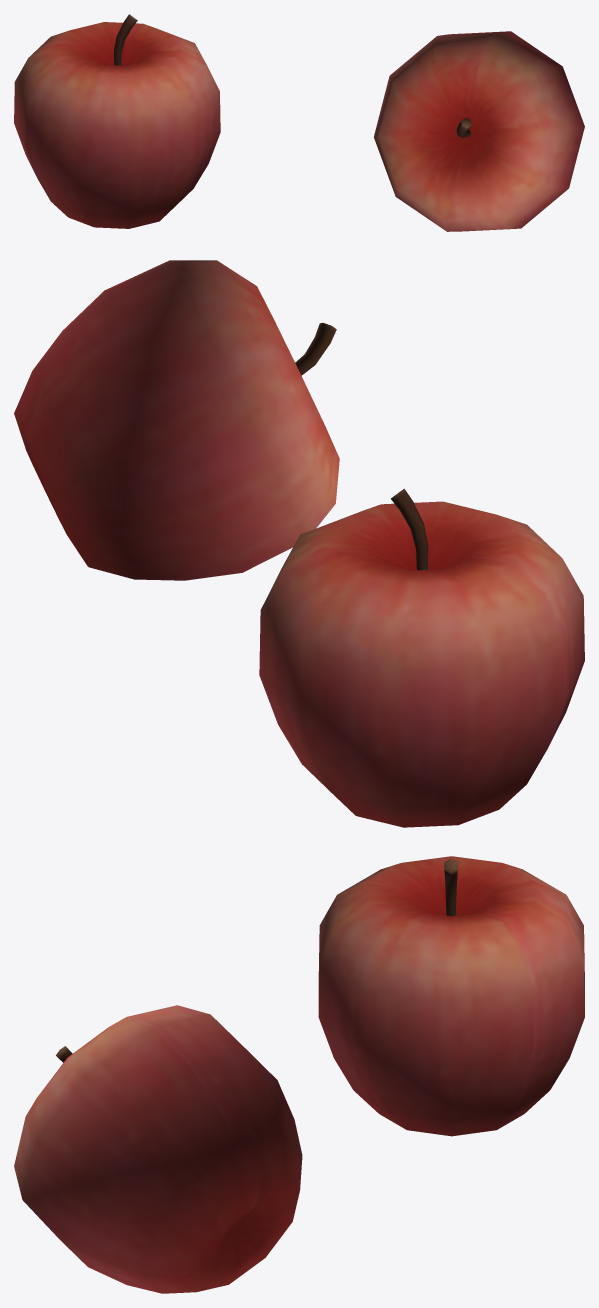
The model's file is HuBian_01_pingguo_01.FBX.
3 views of the same model, one above another, from view 1: azimuth 30°, elevation 25°; view 2: azimuth 150°, elevation 25°; view 3: azimuth 270°, elevation 25° (orthographic). The views are drawn at different scales.
Visible parts, largest first — view 1: TianZhuJiaoTang_01_pingguo_01; view 2: TianZhuJiaoTang_01_pingguo_01; view 3: TianZhuJiaoTang_01_pingguo_01.
Part boxes in pixels (x1=…): TianZhuJiaoTang_01_pingguo_01: x1=14, y1=14, x2=584, y2=231; TianZhuJiaoTang_01_pingguo_01: x1=14, y1=260, x2=584, y2=827; TianZhuJiaoTang_01_pingguo_01: x1=14, y1=856, x2=584, y2=1293.
Bounding box in the file's own units: 135 × 56.11 × 113.
Materials: 1 (1 with a texture image).
